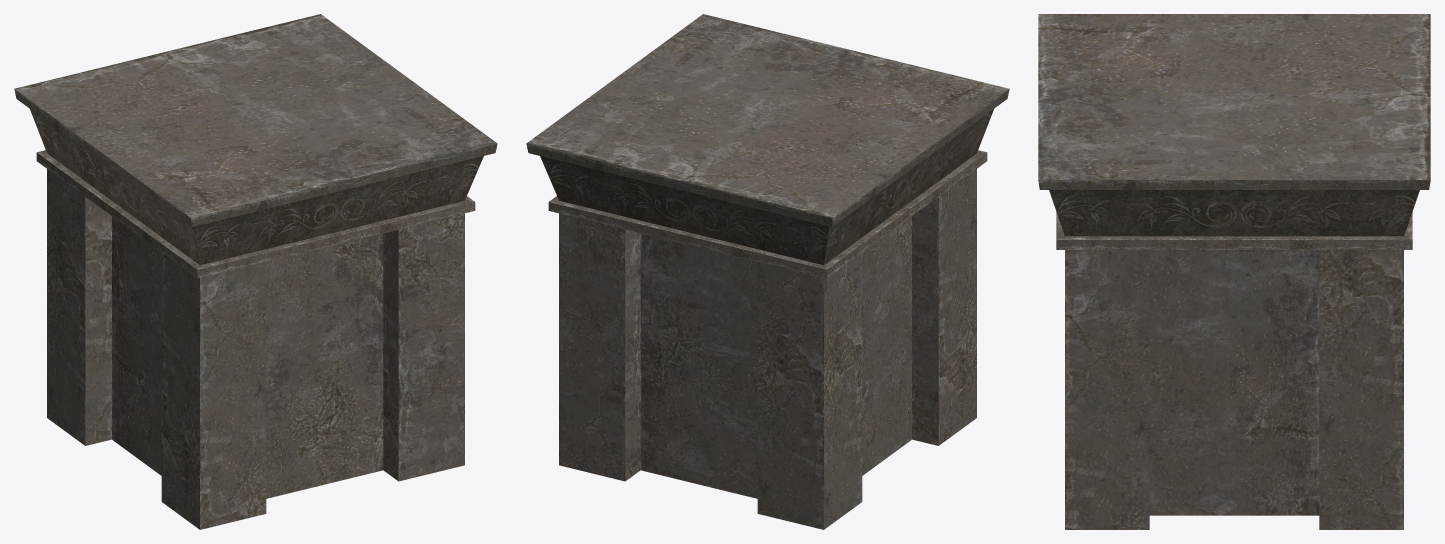
The model's file is ColumnSquare.fbx.
The picture shows the model from 3 angles, left to right: view 1: azimuth 30°, elevation 25°; view 2: azimuth 150°, elevation 25°; view 3: azimuth 270°, elevation 25°; orthographic projection. The views are drawn at different scales.
Visible parts, largest first — view 1: Trim_Column_2x2x240_Square; view 2: Trim_Column_2x2x240_Square; view 3: Trim_Column_2x2x240_Square.
Boxes of the visible parts, <box> form: Trim_Column_2x2x240_Square: <box>14,14,497,529</box>; Trim_Column_2x2x240_Square: <box>526,14,1009,529</box>; Trim_Column_2x2x240_Square: <box>1038,14,1430,529</box>.
Bounding box in the file's own units: 231 × 235 × 231.
